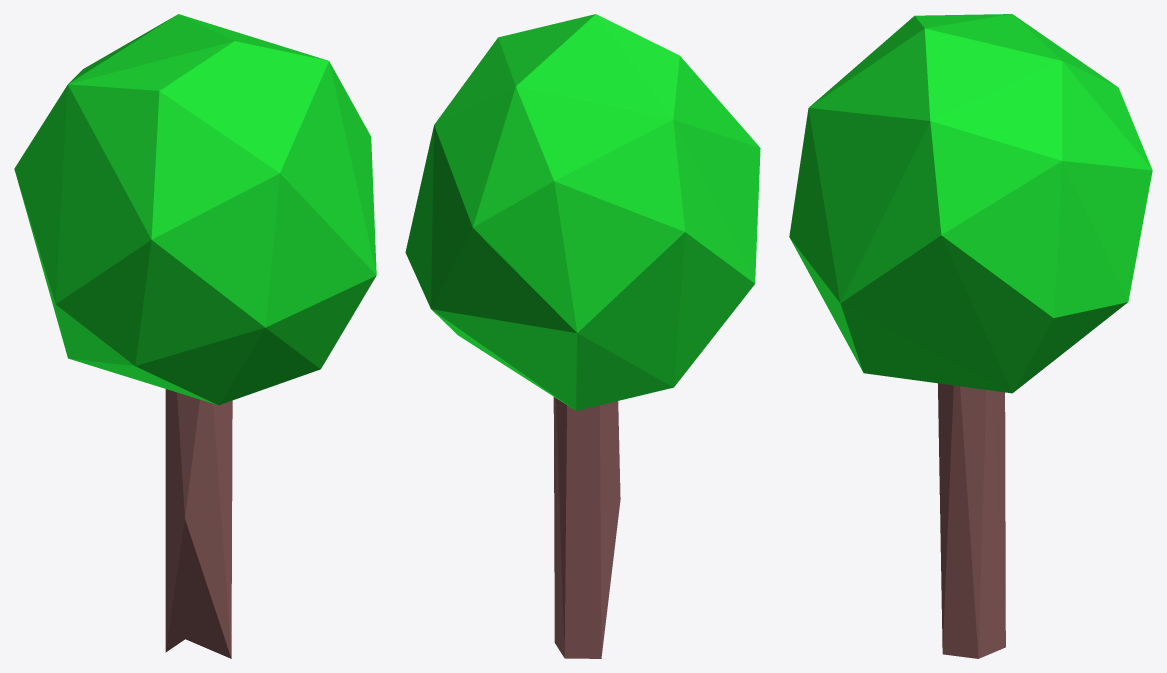
The model's file is LowPolyTree.fbx.
3 views of the same model, side by side, from view 1: azimuth 30°, elevation 25°; view 2: azimuth 150°, elevation 25°; view 3: azimuth 270°, elevation 25° (orthographic). The views are drawn at different scales.
Visible parts, largest first — view 1: Tree02; view 2: Tree02; view 3: Tree02.
Part boxes in pixels (<box>): Tree02: <box>14,14,376,658</box>; Tree02: <box>405,14,760,658</box>; Tree02: <box>789,14,1152,658</box>.
Size of the model in its own units: 131 by 249 by 131.
